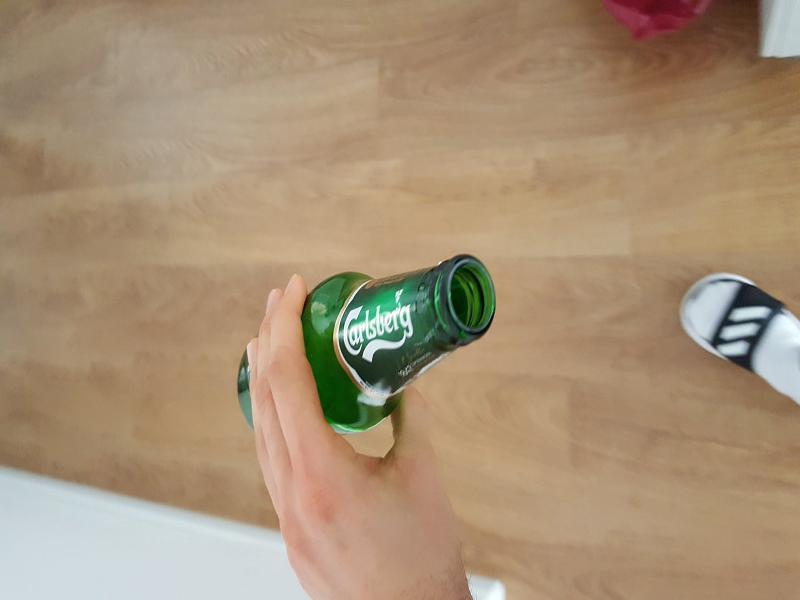Beer: (237, 252, 495, 432)
